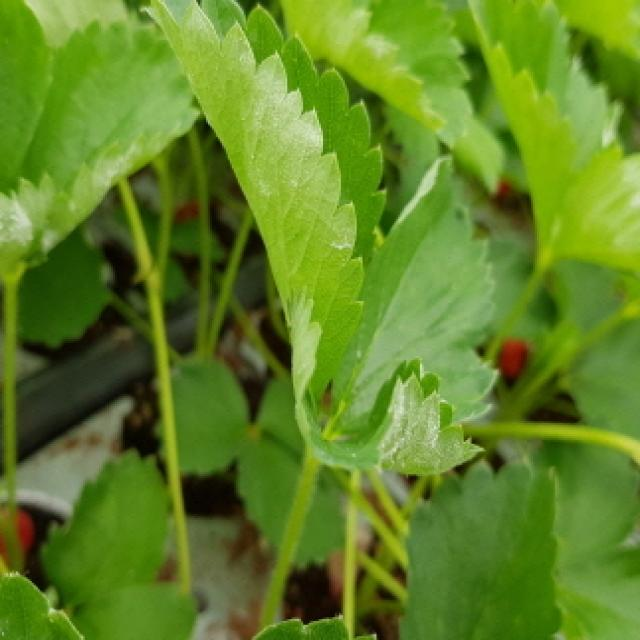Powdery Mildew Leaf: (138, 0, 388, 428), (284, 291, 490, 477), (21, 15, 202, 192), (0, 141, 121, 266), (545, 139, 640, 275)
